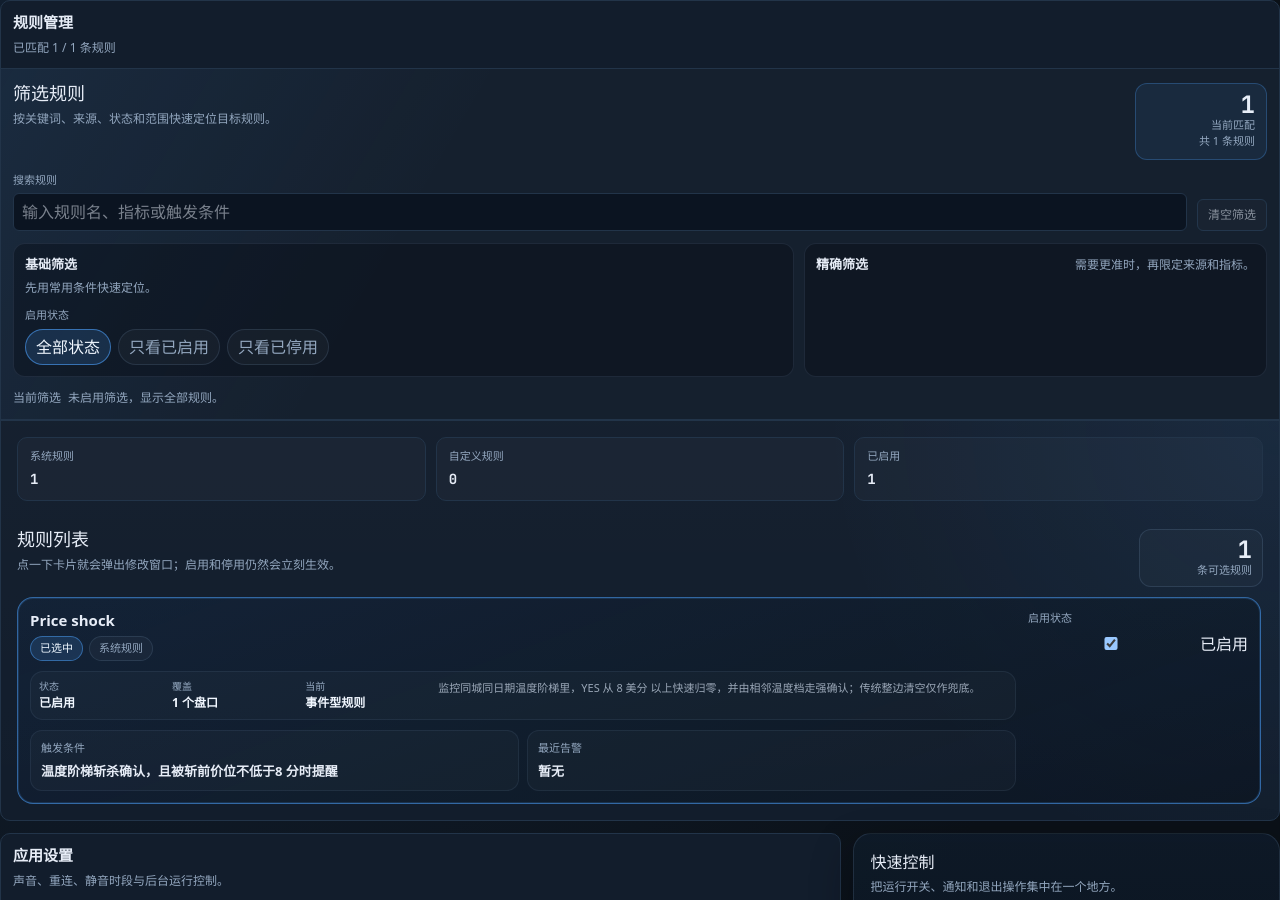
Test: RulesSettingsView behavior › closes the rule editor dialog from the backdrop and close button
What coordinates should you click on to do the following:
click the button with class "rule-card"
I would click on:
 (639, 701)
Its box is left=17, top=597, right=1261, bottom=804.
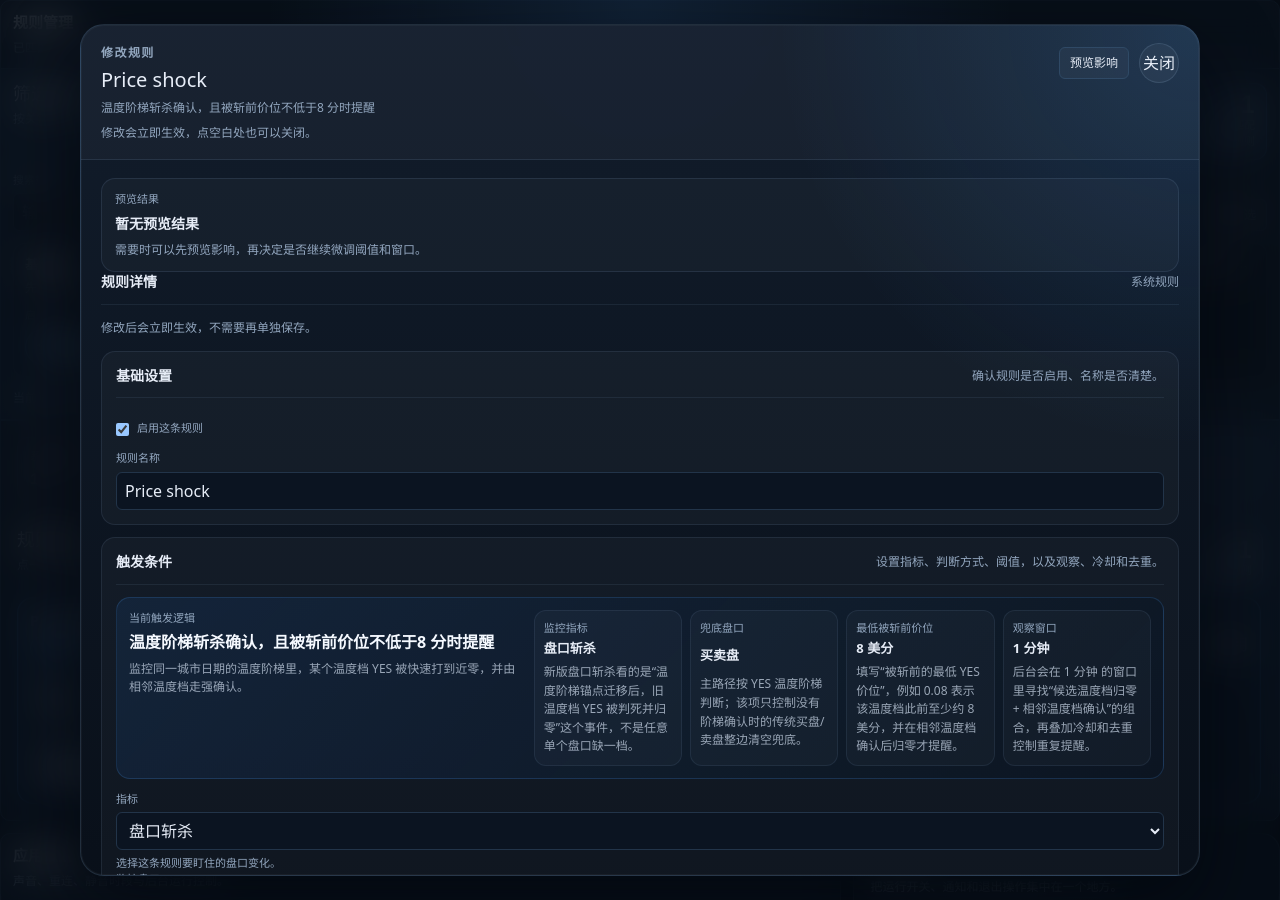
Result: the dialog is shown
Result: the element with test id "rule-editor-backdrop" is shown
What coordinates should you click on to do the following:
click the element with test id "rule-editor-backdrop"
I would click on:
 (77, 450)
Its box is left=0, top=0, right=1279, bottom=899.
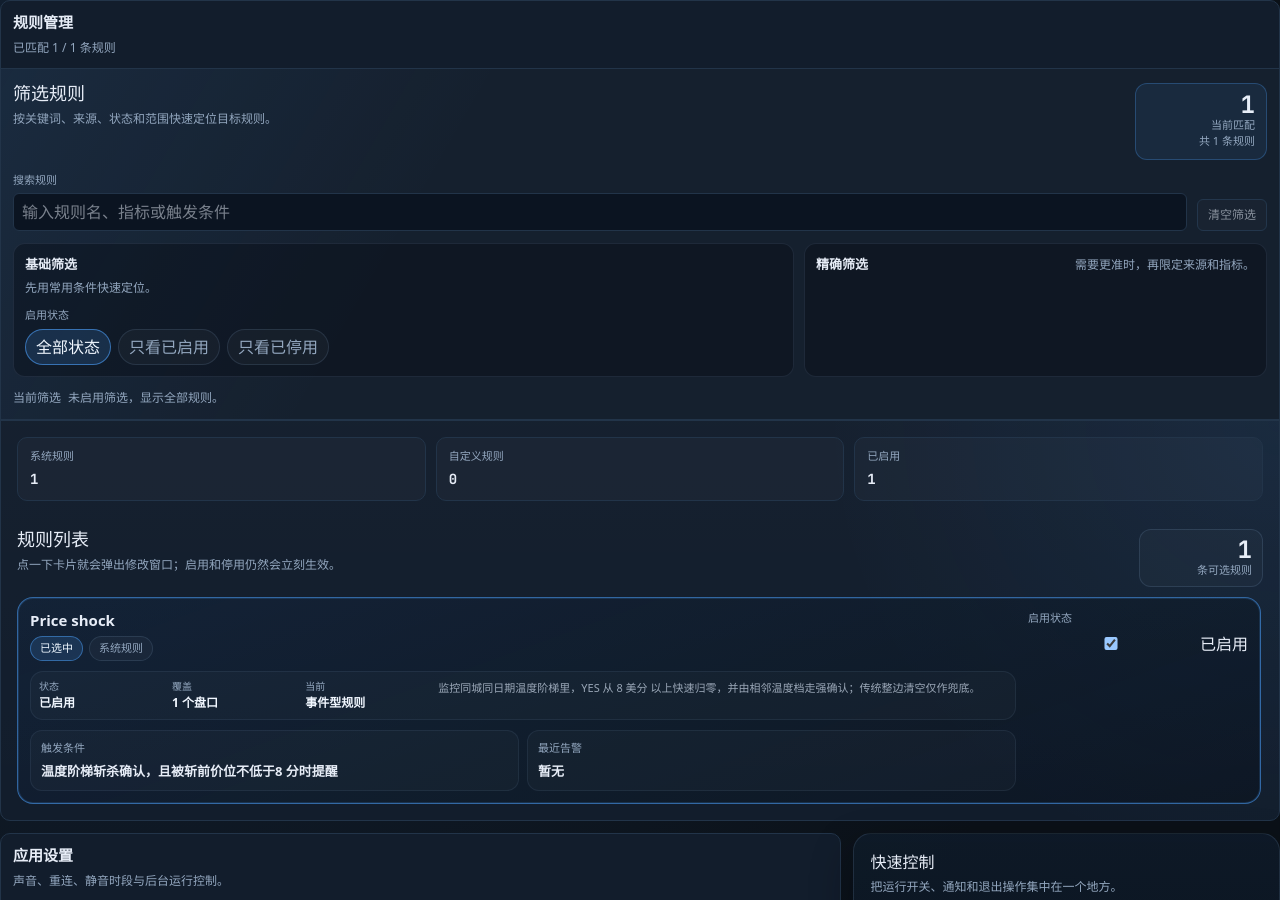
Result: the dialog is gone
What coordinates should you click on to do the following:
click the button with class "rule-card"
I would click on:
 (639, 701)
Its box is left=17, top=597, right=1261, bottom=804.
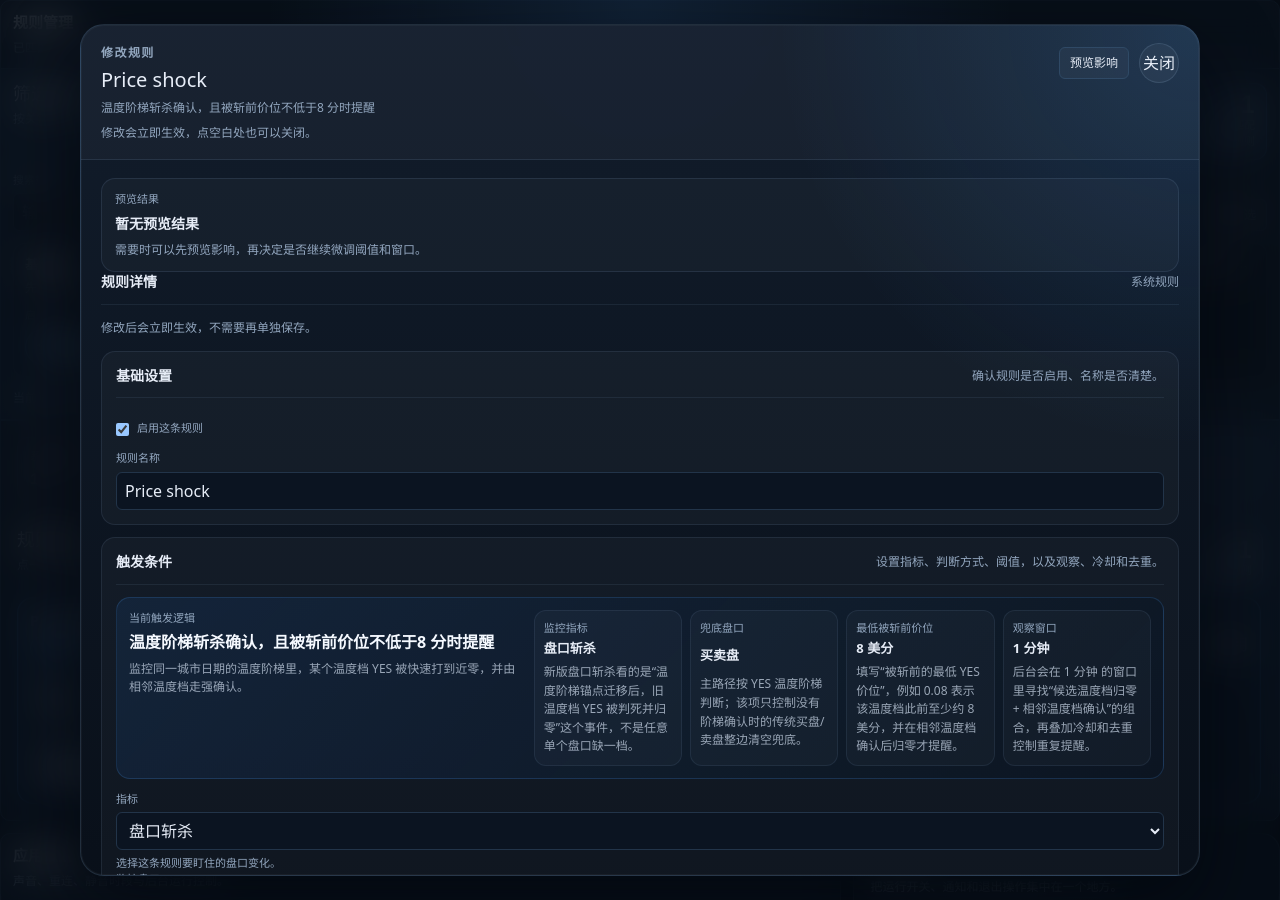
Result: the button with aria-label "close-rule-editor" is shown
What coordinates should you click on to do the following:
click the button with aria-label "close-rule-editor"
I would click on:
 (1159, 63)
Its box is left=1139, top=43, right=1179, bottom=83.
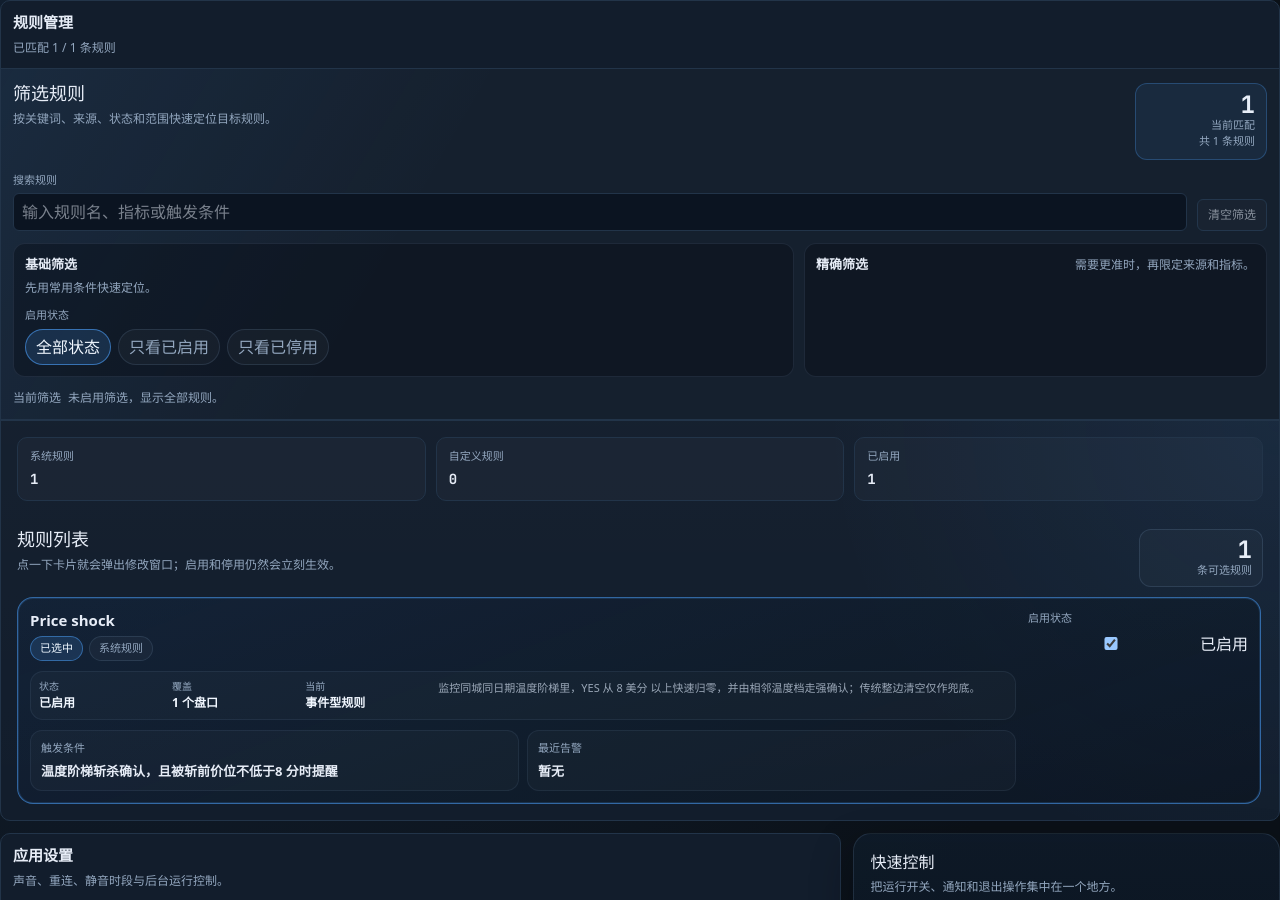
Result: the dialog is gone
